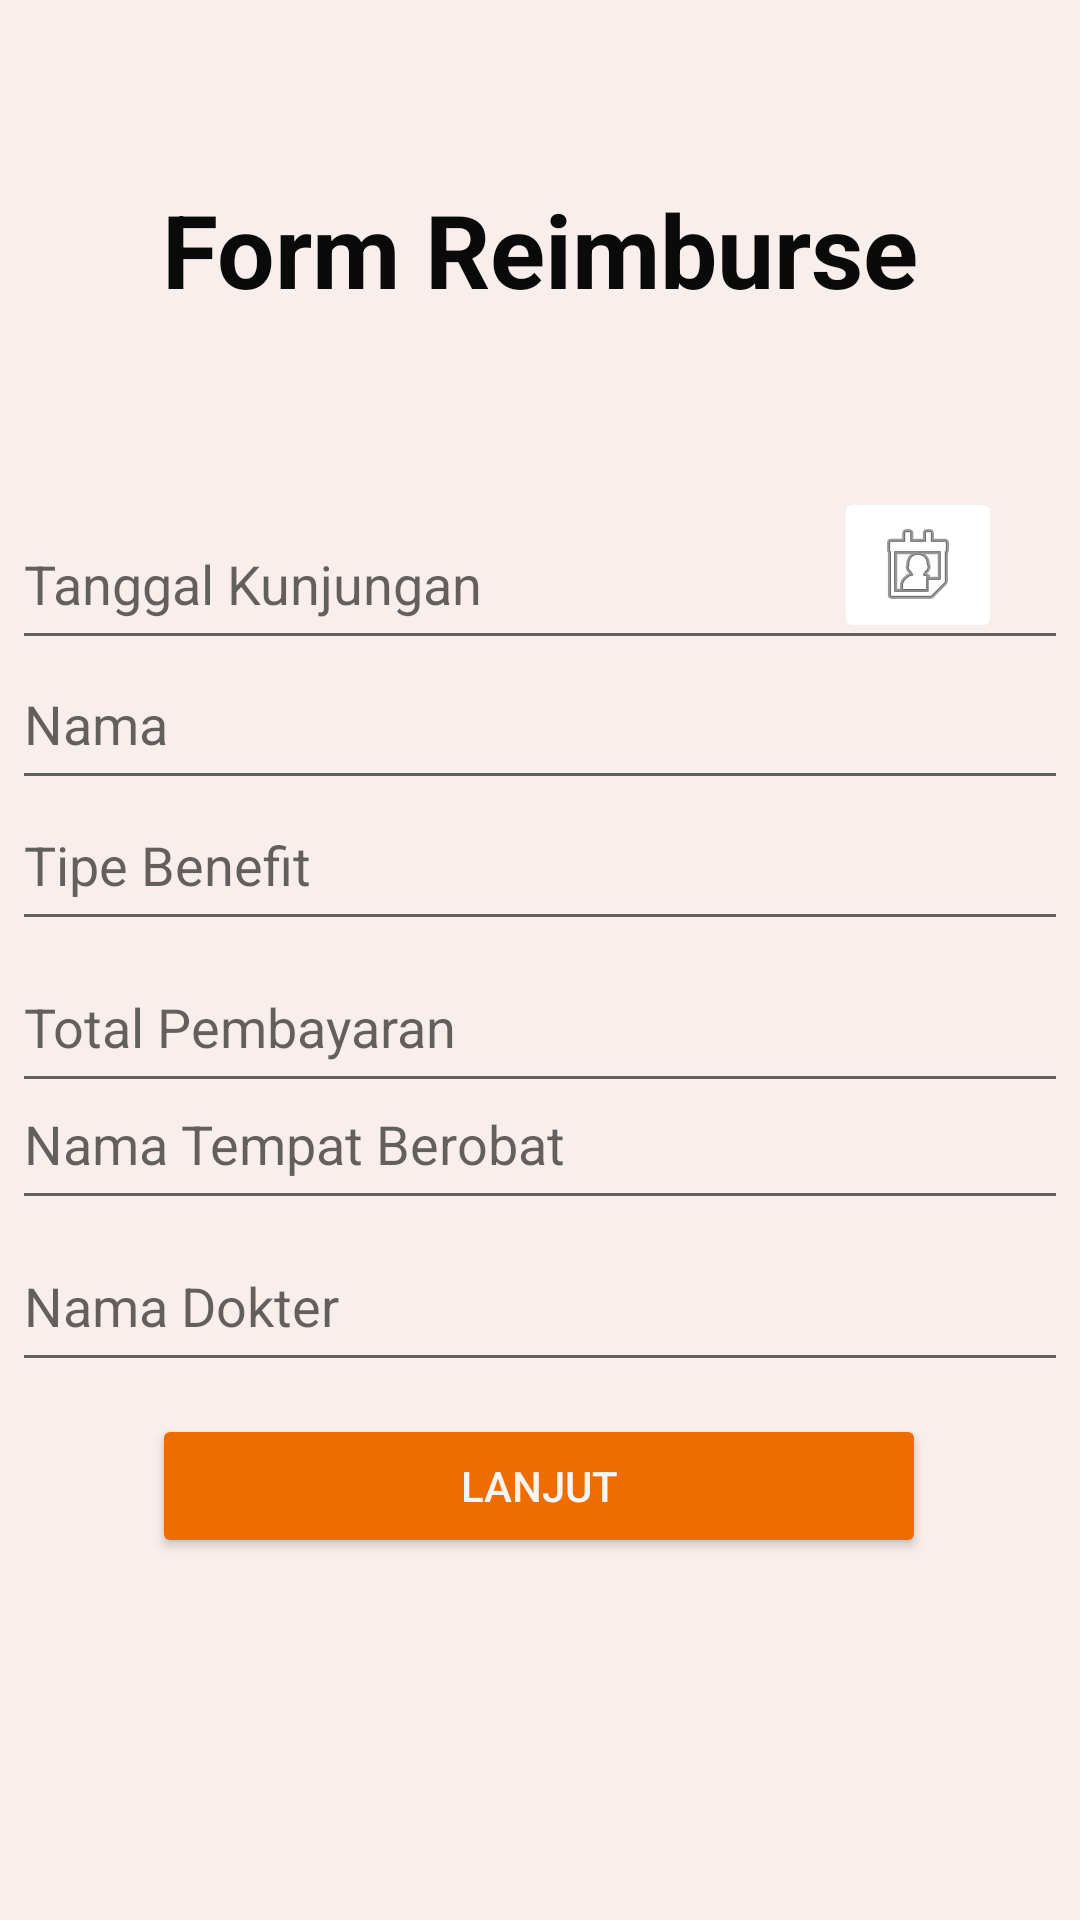

Screen size 1080w x 1920h. Icon name, then its box in pixels as (x1, y1, x2, y2):
calendar: (834, 505, 1002, 636)
